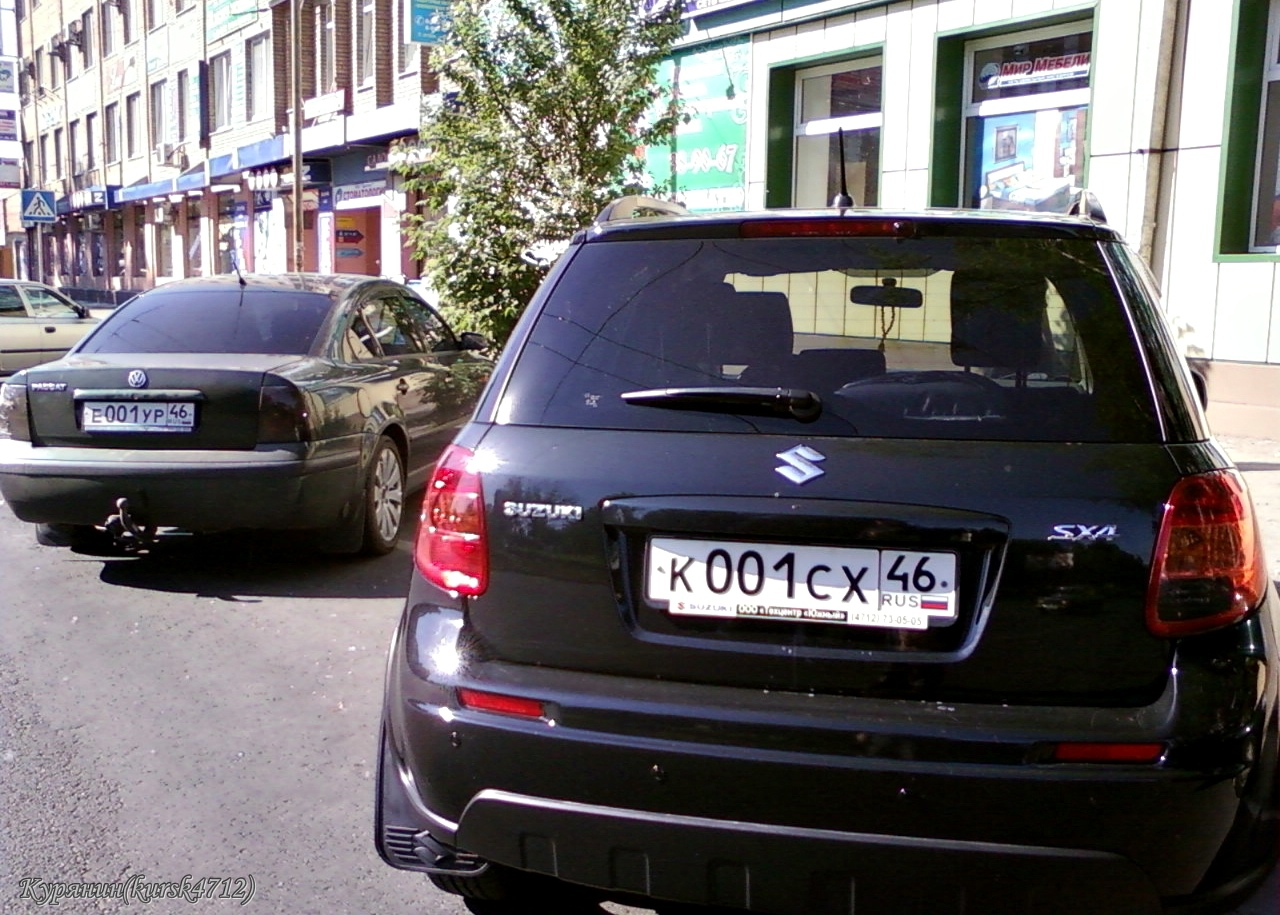number_plate: (641, 526, 970, 610), (80, 395, 198, 427)
